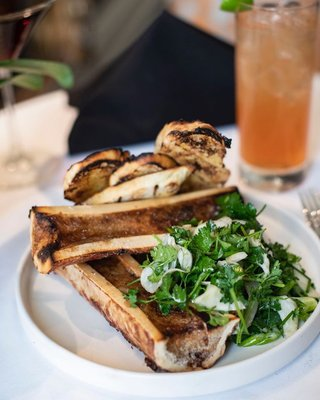burger: (298, 187, 320, 243)
pizza: (234, 0, 320, 196)
soup: (28, 186, 242, 275), (153, 120, 230, 192)
